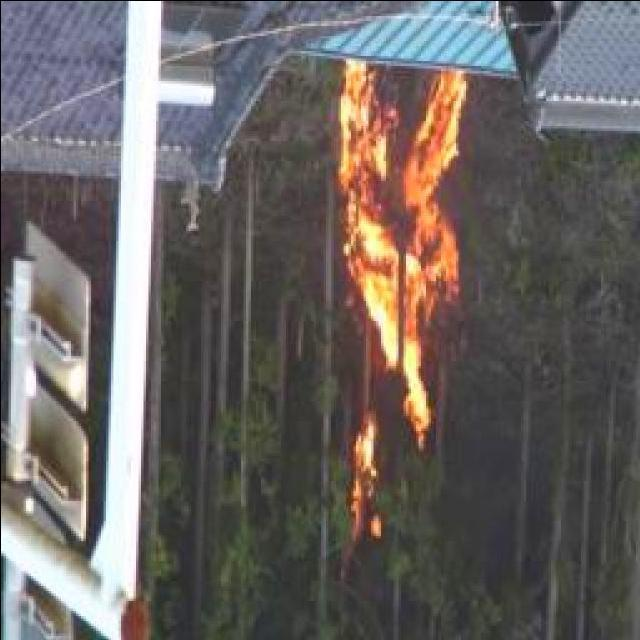Fire: (328, 56, 471, 424), (334, 426, 384, 535)
